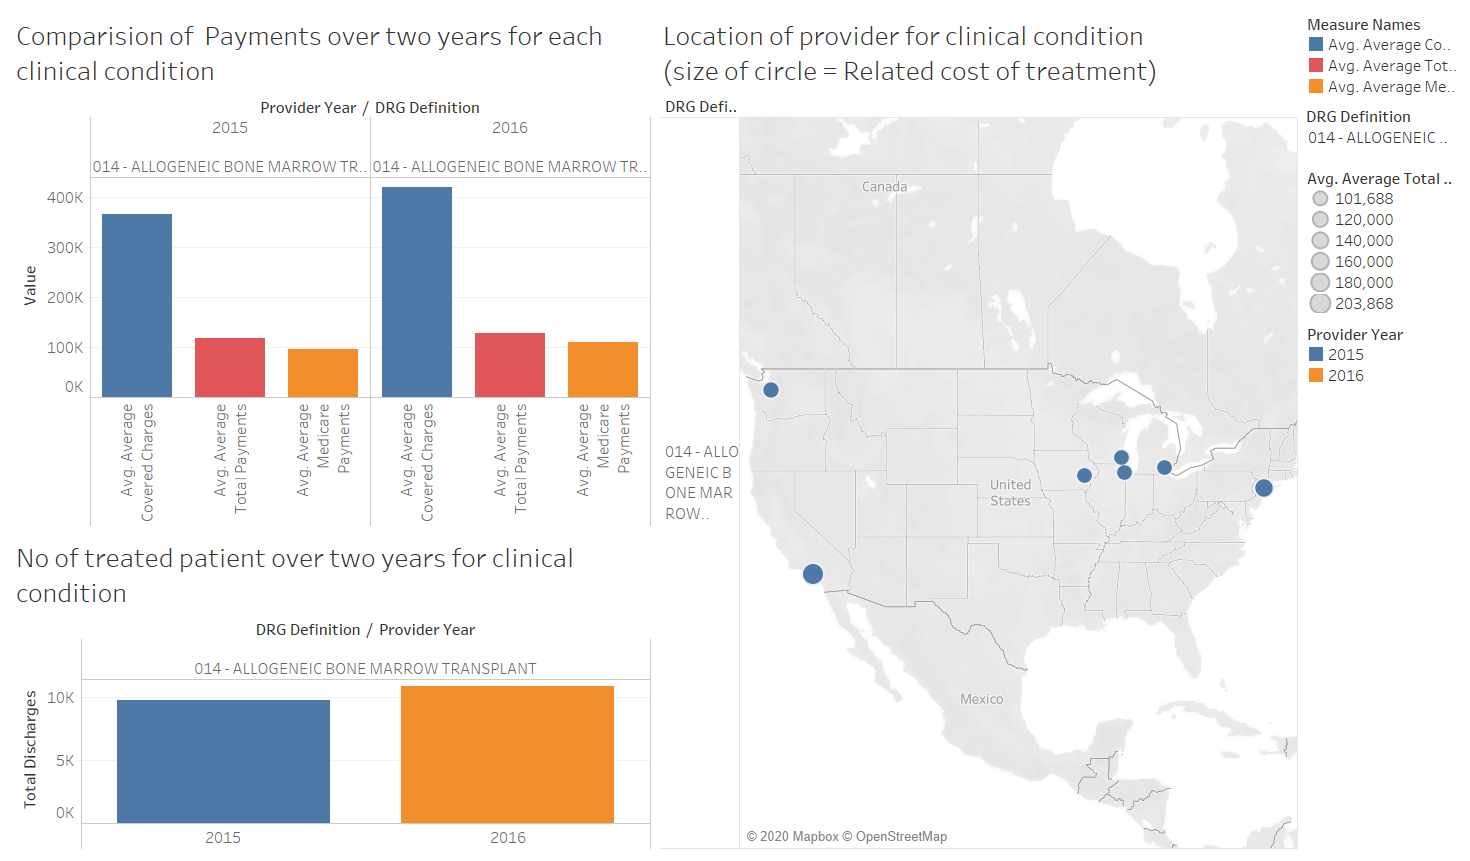

The dashboard page shown, as its layout file describes it:
{"tool":"tableau","page":{"name":"Inp_db","canvas":[1000,1000],"units":"permille","ordinal":2},"visuals":[{"type":"worksheet","title":"Inp1","mark":"Automatic","cols":["Provider_Year","DRG_Definition"],"box":[5.4,9.3,440.1,606.2]},{"type":"worksheet","title":"Inp2","mark":"Automatic","rows":["DRG_Definition"],"box":[445.5,9.3,440.2,981.4]},{"type":"legend","title":"Inp1","param":"[federated.12nd8gl0smvno8155ha070g477ii].[:Measure Names]","box":[885.7,9.3,108.8,108]},{"type":"filter","title":"Inp2","param":"[federated.12nd8gl0smvno8155ha070g477ii].[none:DRG_Definition:nk]","box":[885.7,117.3,108.8,70.9]},{"type":"legend","title":"Inp2","param":"[federated.12nd8gl0smvno8155ha070g477ii].[avg:Average_Total_Payments:qk]","box":[885.7,188.2,108.8,181.2]},{"type":"legend","title":"Inp3","param":"[federated.12nd8gl0smvno8155ha070g477ii].[none:Provider_Year:nk]","box":[885.7,369.3,108.8,83.6]},{"type":"worksheet","title":"Inp3","mark":"Automatic","rows":["Total_Discharges"],"cols":["DRG_Definition","Provider_Year"],"box":[5.4,615.5,440.1,375.2]}]}

Visuals, with their boxes on the dashboard's canvas, which has no fixed pixel size, in thousandths of its width and height (x1, y1, x2, y2). These are canvas units, not pixel positions in the 1470x861 screenshot, which may show the page scaled, cropped or inside an application window:
"Inp1" worksheet: bbox(5, 9, 446, 616)
"Inp2" worksheet: bbox(446, 9, 886, 991)
"Inp1" legend: bbox(886, 9, 994, 117)
"Inp2" filter: bbox(886, 117, 994, 188)
"Inp2" legend: bbox(886, 188, 994, 369)
"Inp3" legend: bbox(886, 369, 994, 453)
"Inp3" worksheet: bbox(5, 616, 446, 991)
